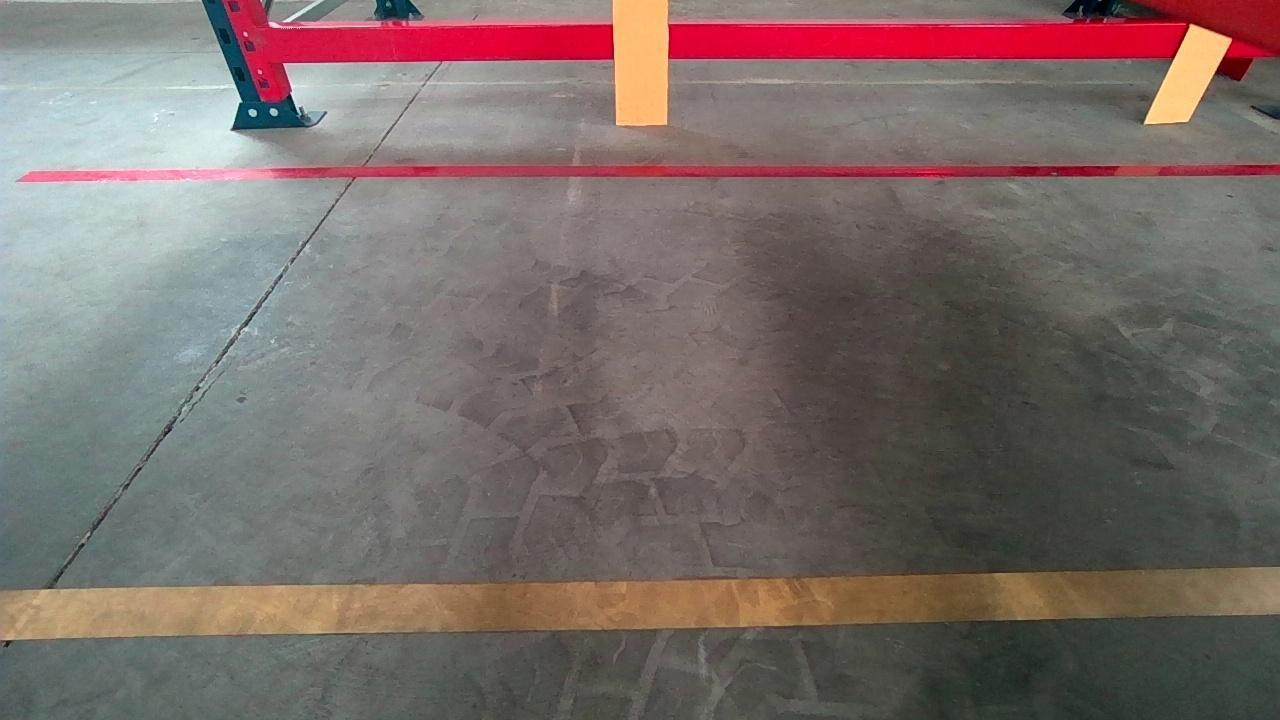h_rack: (273, 15, 1168, 65)
orange_strip: (1144, 26, 1236, 119), (614, 2, 670, 123)
red_line: (15, 158, 1278, 185)
yellow_line: (4, 565, 1265, 643)
